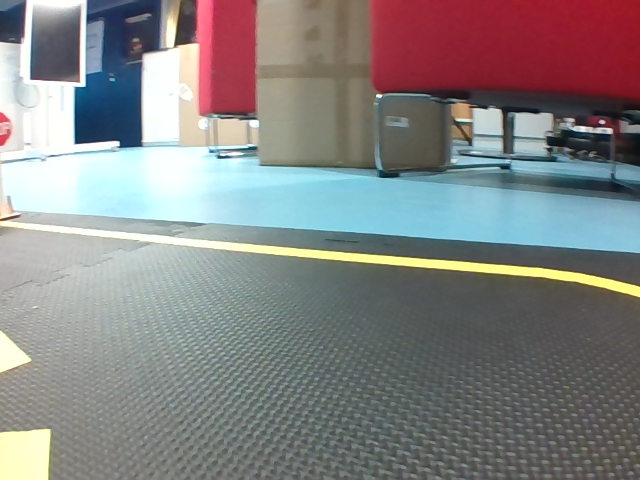no30: (148, 1, 414, 152)
